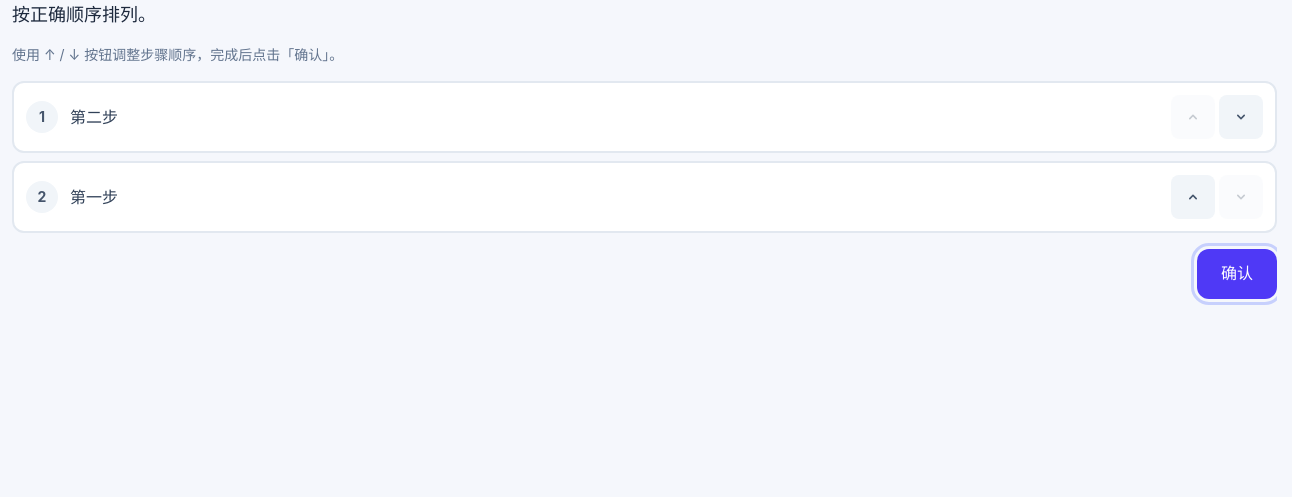
it: first-error retry feedback › moves focus to a sort control after a drag-assemble retry prompt
Click the button "确认" at [1237, 274], box [1197,249,1277,299]
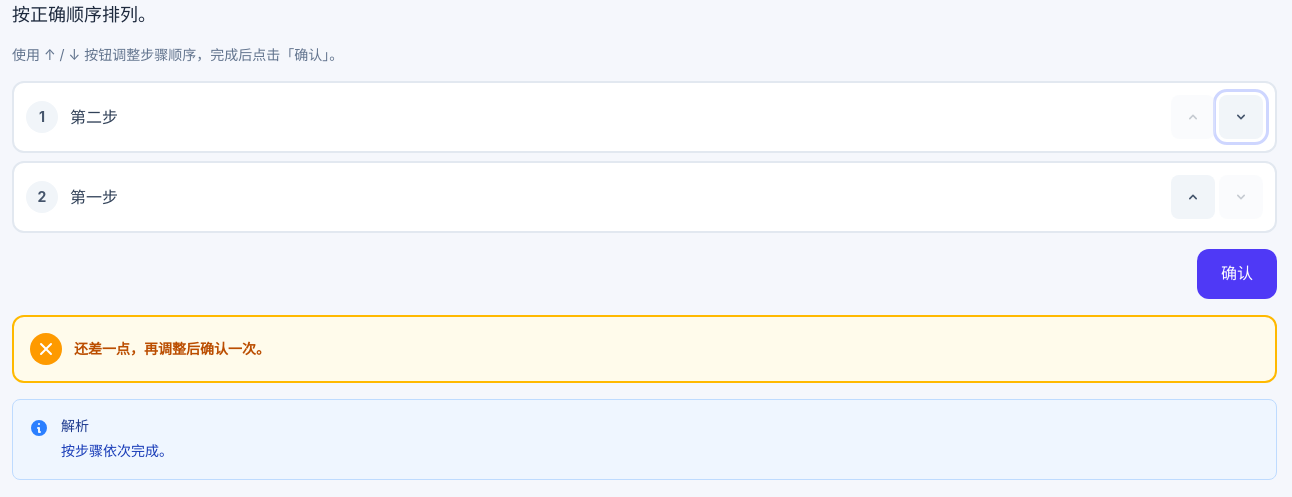
Expected: the message shows "还差一点", [74,340,270,357]
